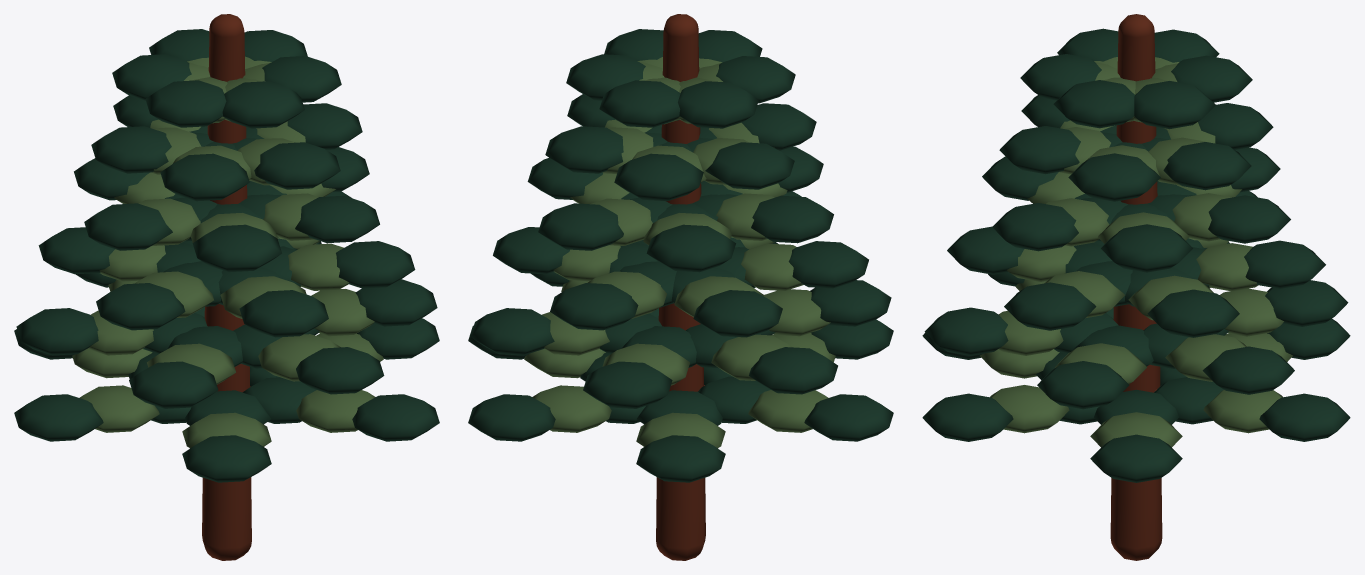
The model's file is Araucaria.fbx.
The picture shows the model from 3 angles, left to right: view 1: azimuth 30°, elevation 25°; view 2: azimuth 150°, elevation 25°; view 3: azimuth 270°, elevation 25°; orthographic projection.
Visible parts, largest first — view 1: Araucaria; view 2: Araucaria; view 3: Araucaria.
Boxes of the visible parts, x1=… form: Araucaria: x1=14, y1=14, x2=439, y2=560; Araucaria: x1=468, y1=14, x2=893, y2=560; Araucaria: x1=922, y1=14, x2=1350, y2=560.
Bounding box in the file's own units: 446 × 557 × 398.
